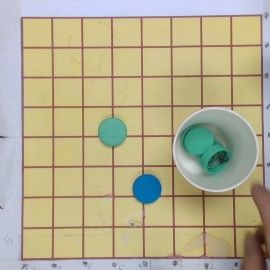blue: (130, 173, 162, 204)
cup_green: (171, 108, 259, 194)
green: (98, 117, 127, 148)
